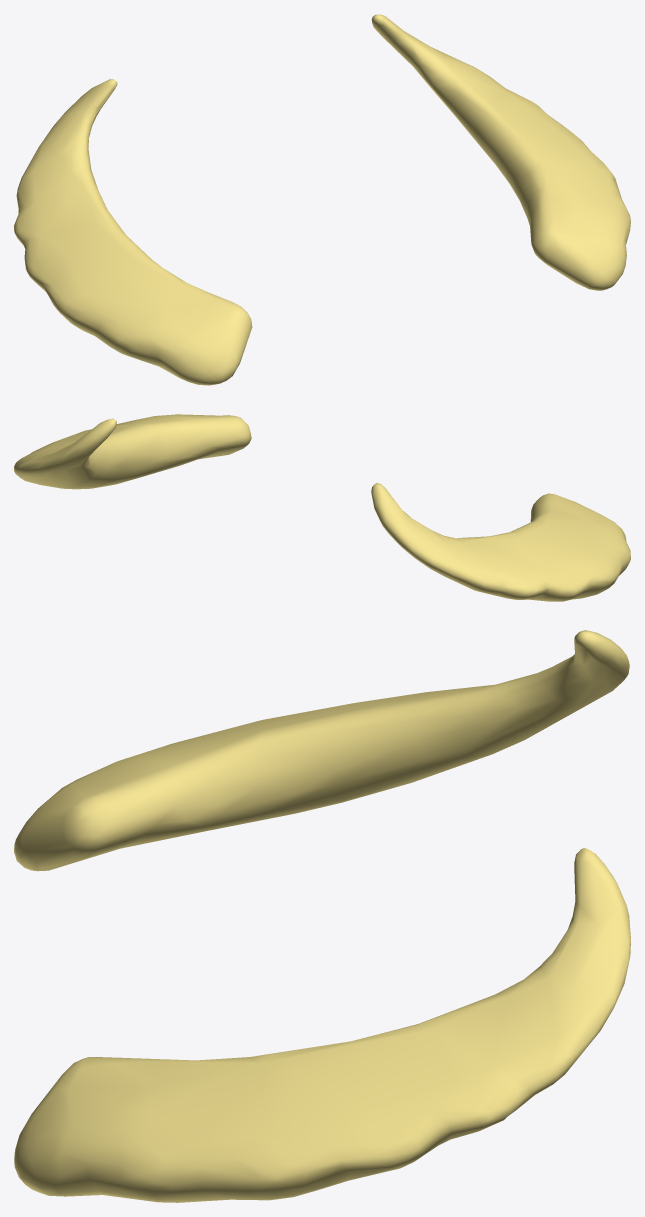
The model's file is hipocampo.glb.
3 renders of one model, top to bottom at view 1: azimuth 30°, elevation 25°; view 2: azimuth 150°, elevation 25°; view 3: azimuth 270°, elevation 25°, orthographic. The views are drawn at different scales.
Parts seen in each view (by area): view 1: hipocampo; view 2: hipocampo; view 3: hipocampo.
Part boxes in pixels (box(x1,y1,x2,y2)): hipocampo: box(14, 14, 630, 385); hipocampo: box(14, 414, 630, 601); hipocampo: box(14, 630, 630, 1202).
Bounding box in the file's own units: 0.0745 × 0.022 × 0.0429.
